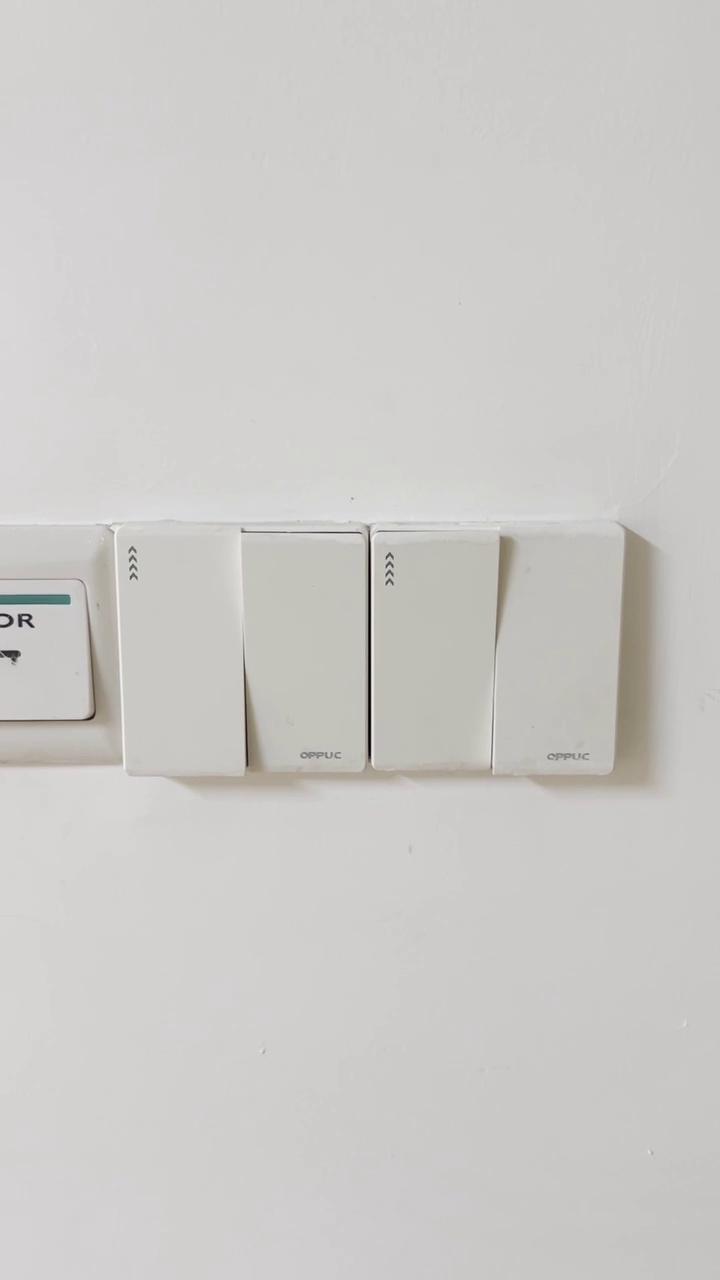button1: (115, 527, 243, 778), (372, 532, 493, 772), (244, 539, 367, 771), (502, 532, 614, 775)
